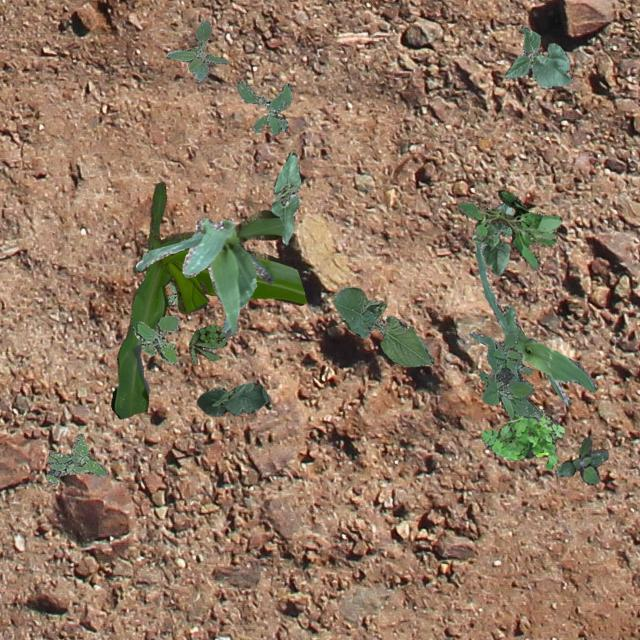crop: (110, 180, 304, 418), (468, 240, 596, 404), (134, 216, 272, 350), (332, 286, 434, 366), (504, 24, 572, 88), (470, 202, 512, 276), (268, 150, 300, 244), (196, 382, 268, 414)
weed: (456, 188, 560, 270), (478, 331, 542, 416), (479, 408, 564, 468), (165, 18, 228, 80), (46, 432, 106, 483), (237, 80, 290, 134), (556, 436, 608, 484), (132, 314, 178, 364), (188, 324, 225, 364), (166, 282, 177, 304)
